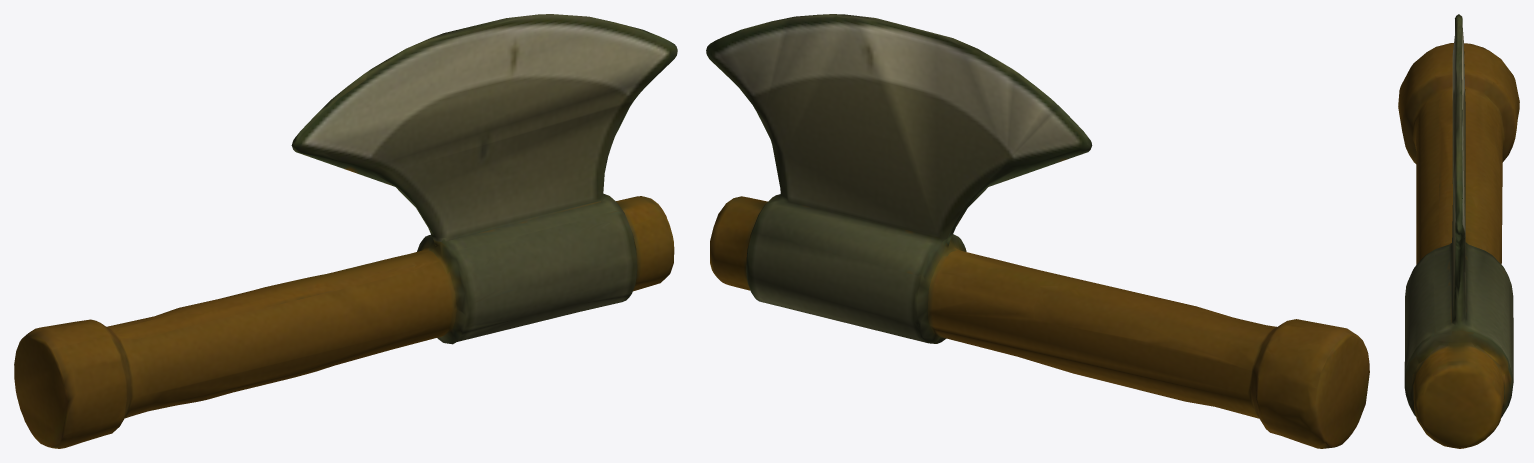
The model's file is item_axe_1h.glb.
The picture shows the model from 3 angles, left to right: view 1: azimuth 30°, elevation 25°; view 2: azimuth 150°, elevation 25°; view 3: azimuth 270°, elevation 25°; orthographic projection. The views are drawn at different scales.
Visible parts, largest first — view 1: axe; view 2: axe; view 3: axe.
Part boxes in pixels (left/top/right/bottom): axe: left=14, top=14, right=677, bottom=448; axe: left=706, top=14, right=1369, bottom=448; axe: left=1398, top=14, right=1519, bottom=448.
Bounding box in the file's own units: 2.11 × 0.9942 × 0.3334.
1 material, 1 textured.
